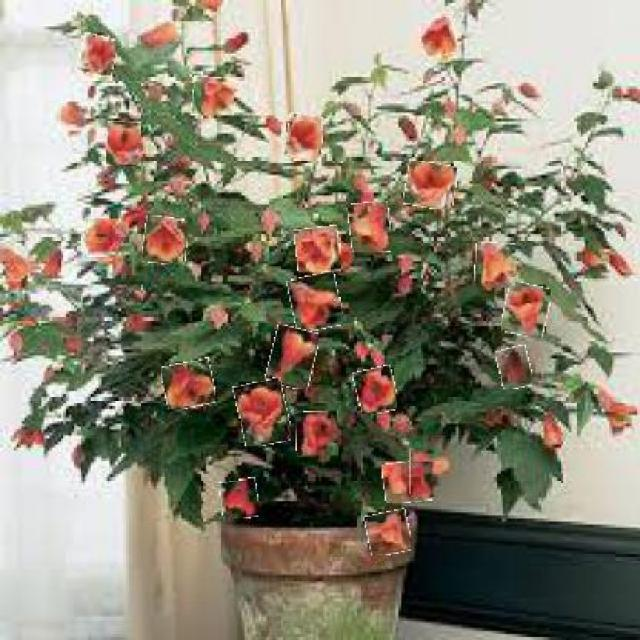Flower: (236, 380, 290, 446), (268, 327, 317, 390), (288, 274, 341, 331), (162, 360, 216, 409), (502, 283, 550, 337), (405, 162, 458, 209), (383, 460, 435, 503), (296, 226, 342, 274), (350, 201, 392, 253), (296, 412, 341, 459), (366, 510, 411, 556), (144, 218, 188, 265), (355, 366, 398, 414), (475, 243, 518, 289), (409, 450, 451, 495), (285, 114, 323, 161), (192, 76, 235, 116), (419, 16, 458, 58), (78, 34, 117, 75), (221, 478, 259, 520), (107, 122, 142, 166), (499, 346, 533, 389), (86, 219, 120, 259), (539, 412, 563, 453), (60, 102, 89, 133)
